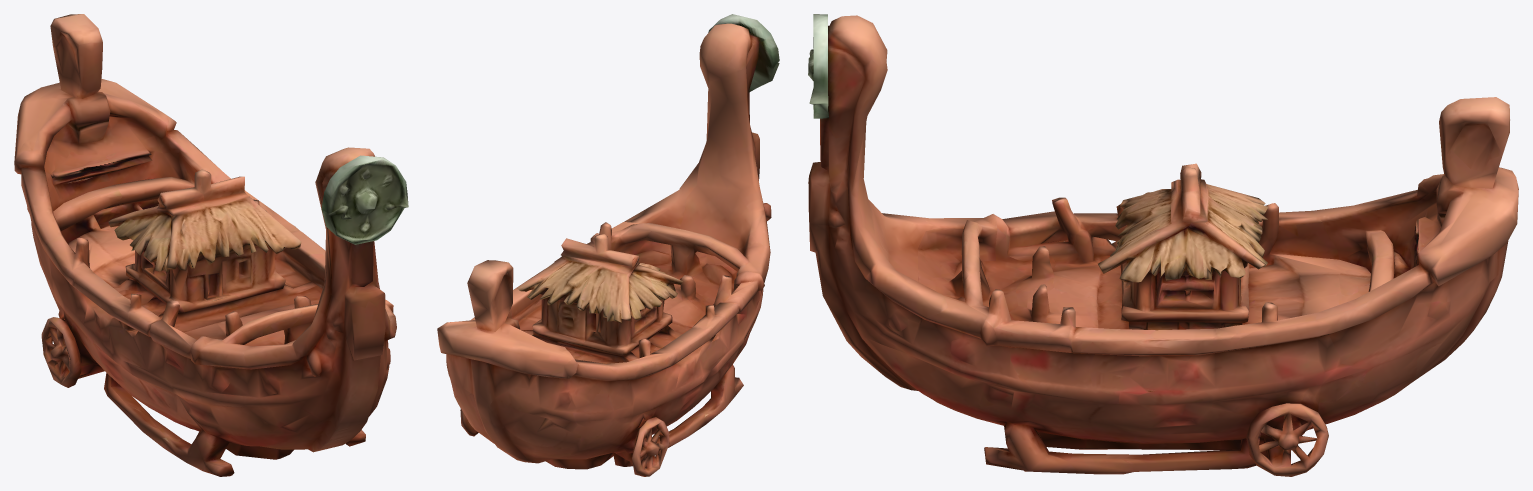
File: anc_haniwaboat.glb
The picture shows the model from 3 angles, left to right: view 1: azimuth 30°, elevation 25°; view 2: azimuth 150°, elevation 25°; view 3: azimuth 270°, elevation 25°; orthographic projection. The views are drawn at different scales.
Visible parts, largest first — view 1: tripo_node_c1712d5b-3f18-4059-8dfe-26700b5dd1b3; view 2: tripo_node_c1712d5b-3f18-4059-8dfe-26700b5dd1b3; view 3: tripo_node_c1712d5b-3f18-4059-8dfe-26700b5dd1b3.
Boxes of the visible parts, x1,y1,x2,y2 form: tripo_node_c1712d5b-3f18-4059-8dfe-26700b5dd1b3: (14, 14, 408, 476); tripo_node_c1712d5b-3f18-4059-8dfe-26700b5dd1b3: (437, 14, 779, 476); tripo_node_c1712d5b-3f18-4059-8dfe-26700b5dd1b3: (808, 14, 1518, 476).
Size of the model in its own units: 0.408 by 0.6416 by 0.9987.
Materials: 1 (1 with a texture image).
